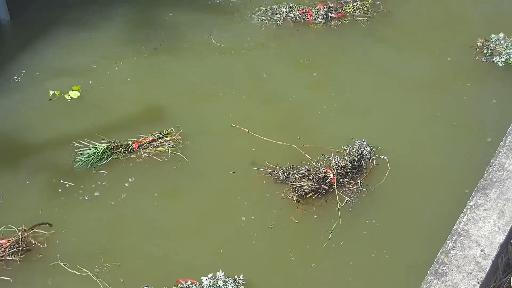twig: (207, 122, 409, 233), (50, 244, 254, 288), (75, 120, 190, 186), (253, 0, 398, 30), (2, 213, 67, 261), (469, 30, 512, 77)
